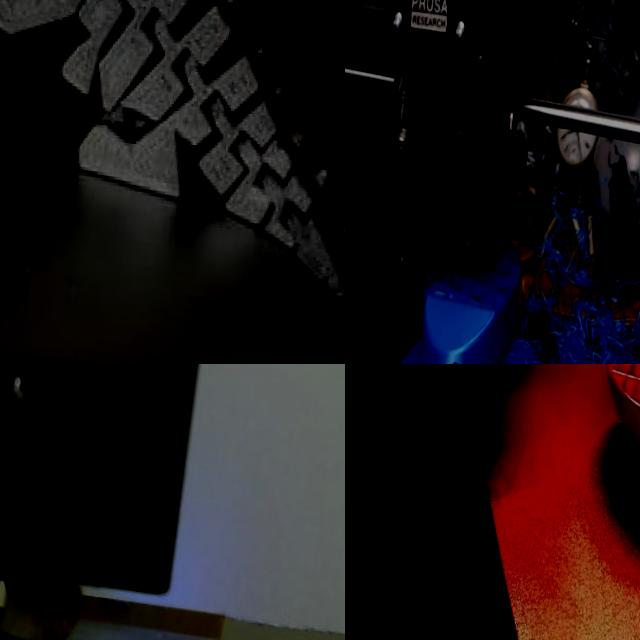spaghetti: (0, 579, 81, 640)
